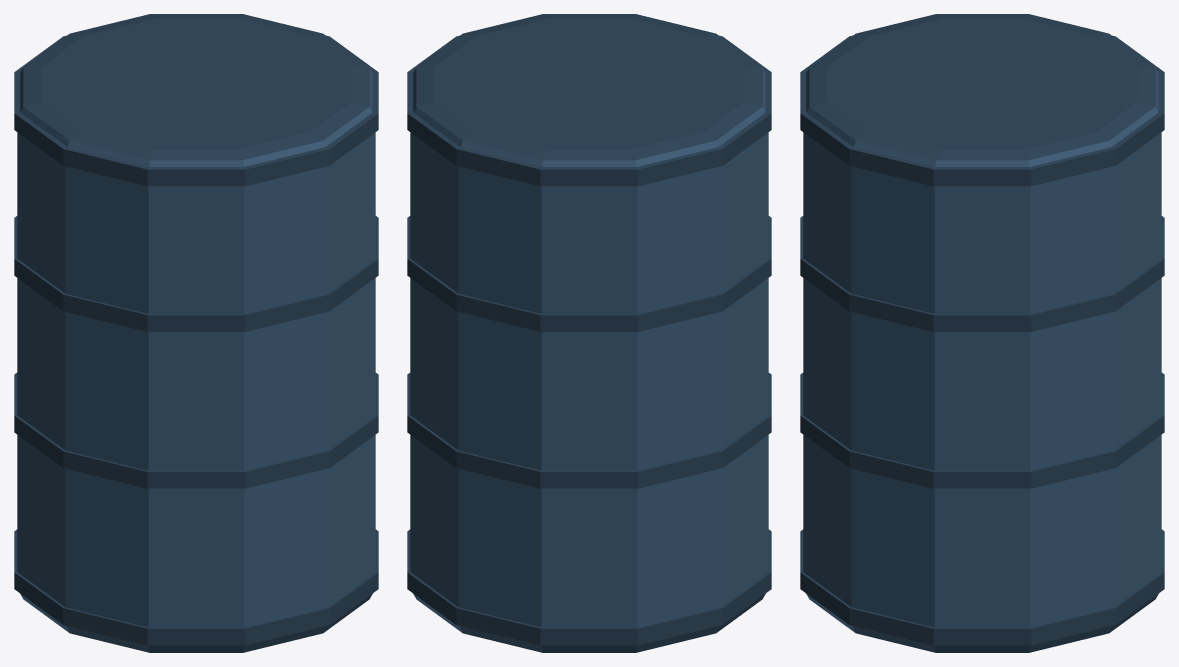
The model's file is barrel.glb.
3 renders of one model, left to right at view 1: azimuth 30°, elevation 25°; view 2: azimuth 150°, elevation 25°; view 3: azimuth 270°, elevation 25°, orthographic.
Parts seen in each view (by area): view 1: barrel; view 2: barrel; view 3: barrel.
Boxes of the visible parts, x1,y1,x2,y2 form: barrel: (14, 14, 378, 652); barrel: (407, 14, 771, 652); barrel: (800, 14, 1164, 652).
Size of the model in its own units: 0.5892 by 0.885 by 0.5892.
